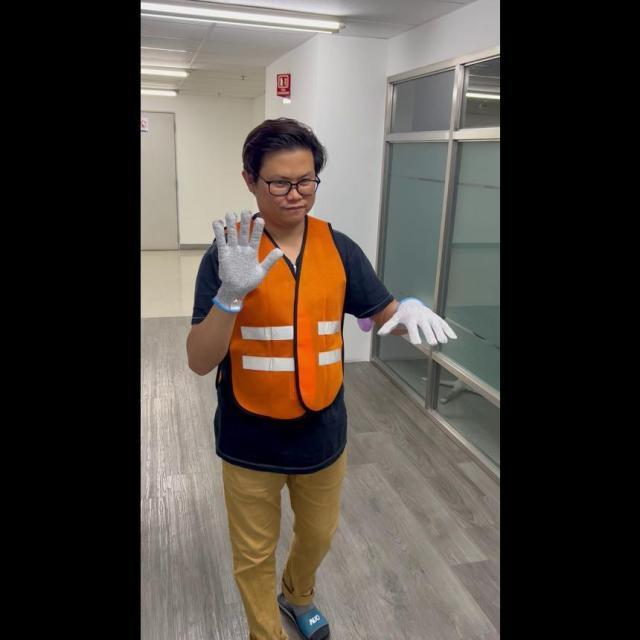gloved_hand: (206, 204, 281, 310), (377, 292, 455, 355)
